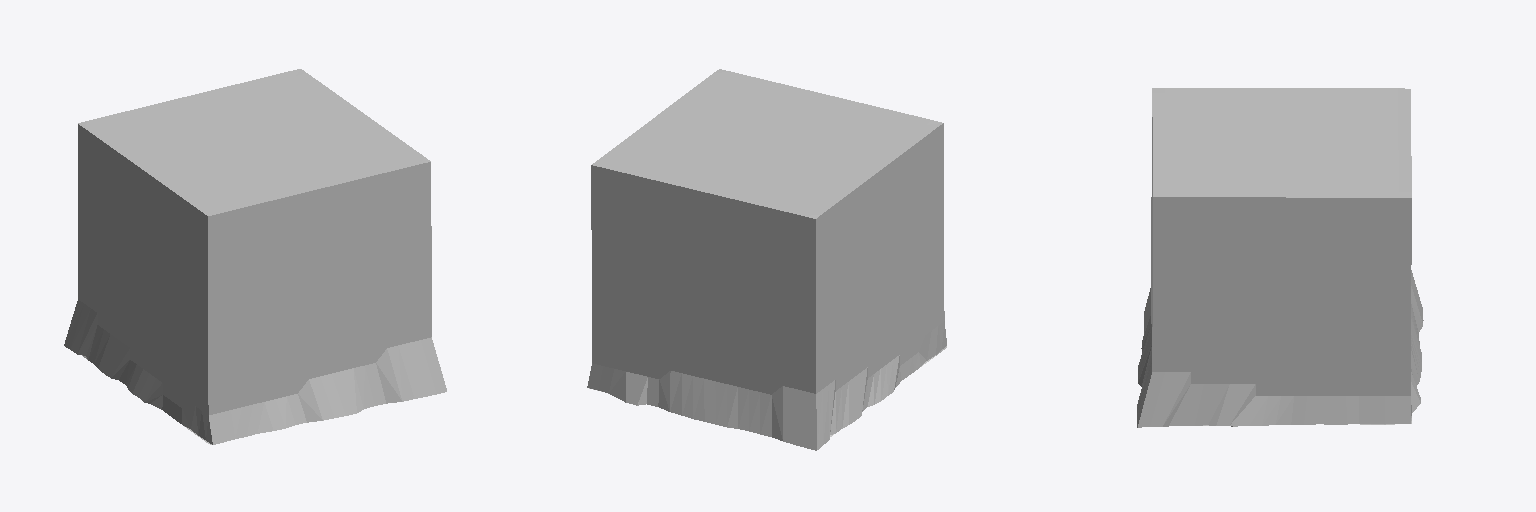
The model's file is mod0144.obj.
3 views of the same model, side by side, from view 1: azimuth 30°, elevation 25°; view 2: azimuth 150°, elevation 25°; view 3: azimuth 270°, elevation 25° (orthographic).
Parts seen in each view (by area): view 1: Box001; view 2: Box001; view 3: Box001.
Boxes of the visible parts, <box> form: Box001: <box>64,69,446,444</box>; Box001: <box>587,69,946,450</box>; Box001: <box>1137,88,1423,427</box>.
Bounding box in the file's own units: 0.5799 × 0.5228 × 0.5979.